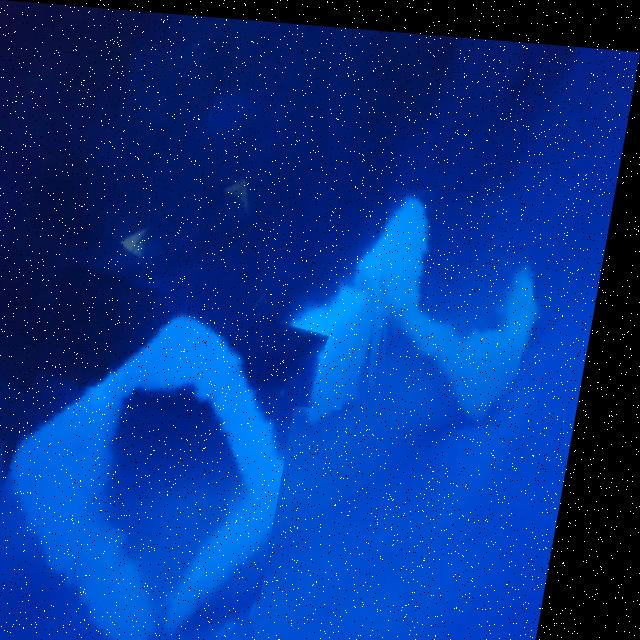thermocoal: (0, 268, 324, 640), (361, 180, 554, 429), (295, 259, 375, 403)
